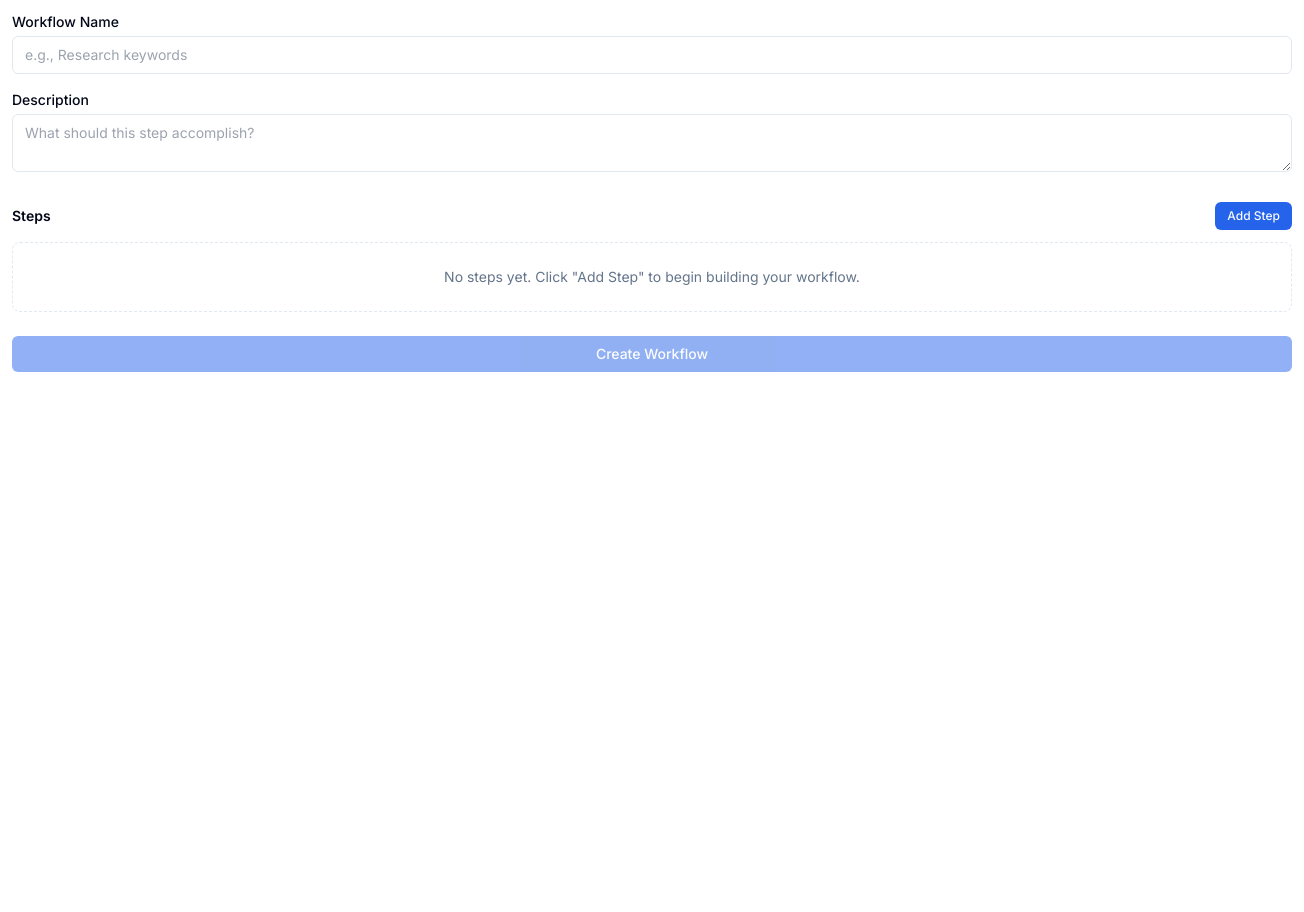
Test case: WorkflowBuilder › shows error on blur when step name is empty
Click the button "Add Step".
click(1254, 216)  # box [1215,202,1292,230]
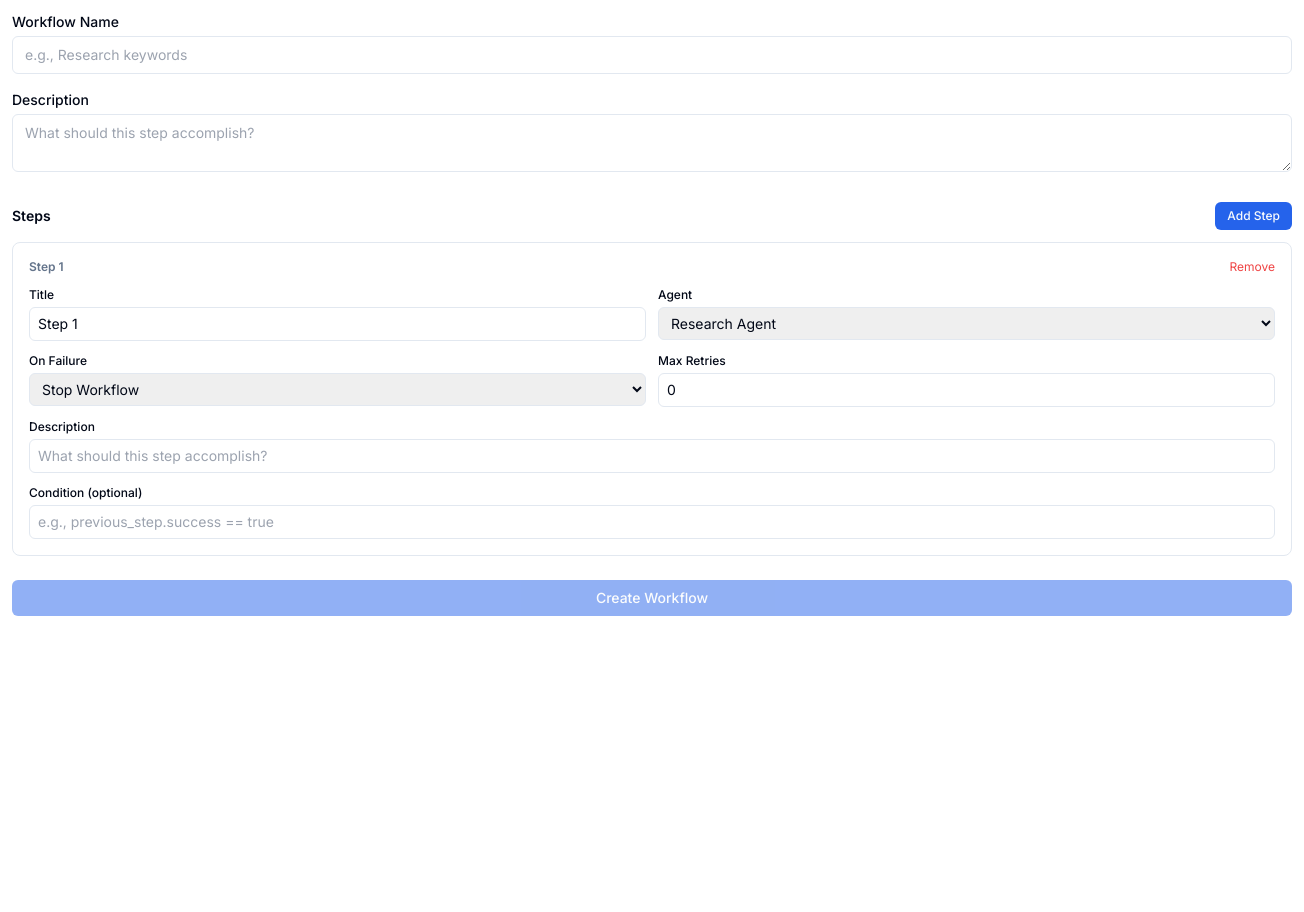
Clear the field named "Step 1 title" at [338, 324], box [29,307,646,341]
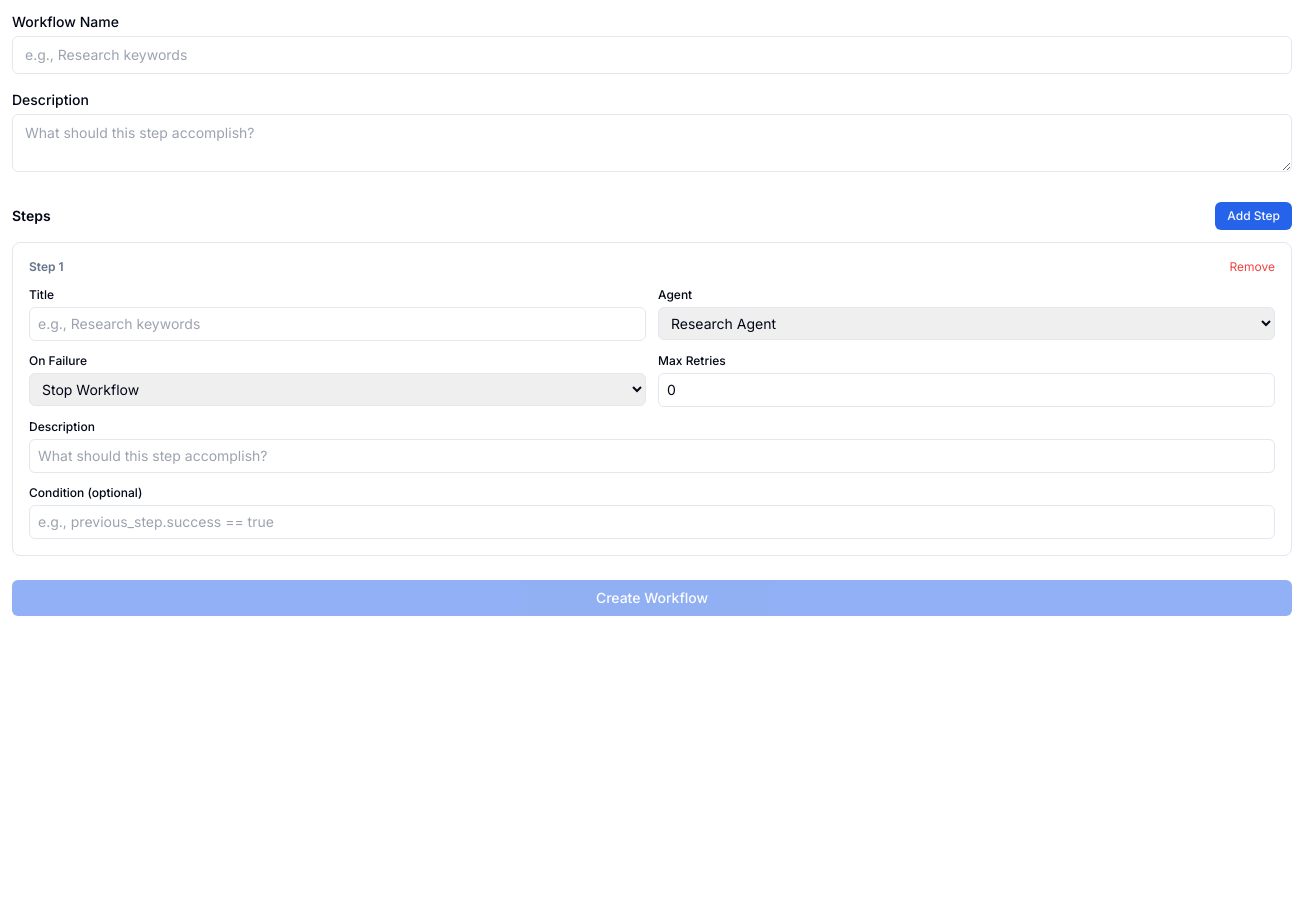
Leave the field named "Step 1 title", box [29,307,646,341]
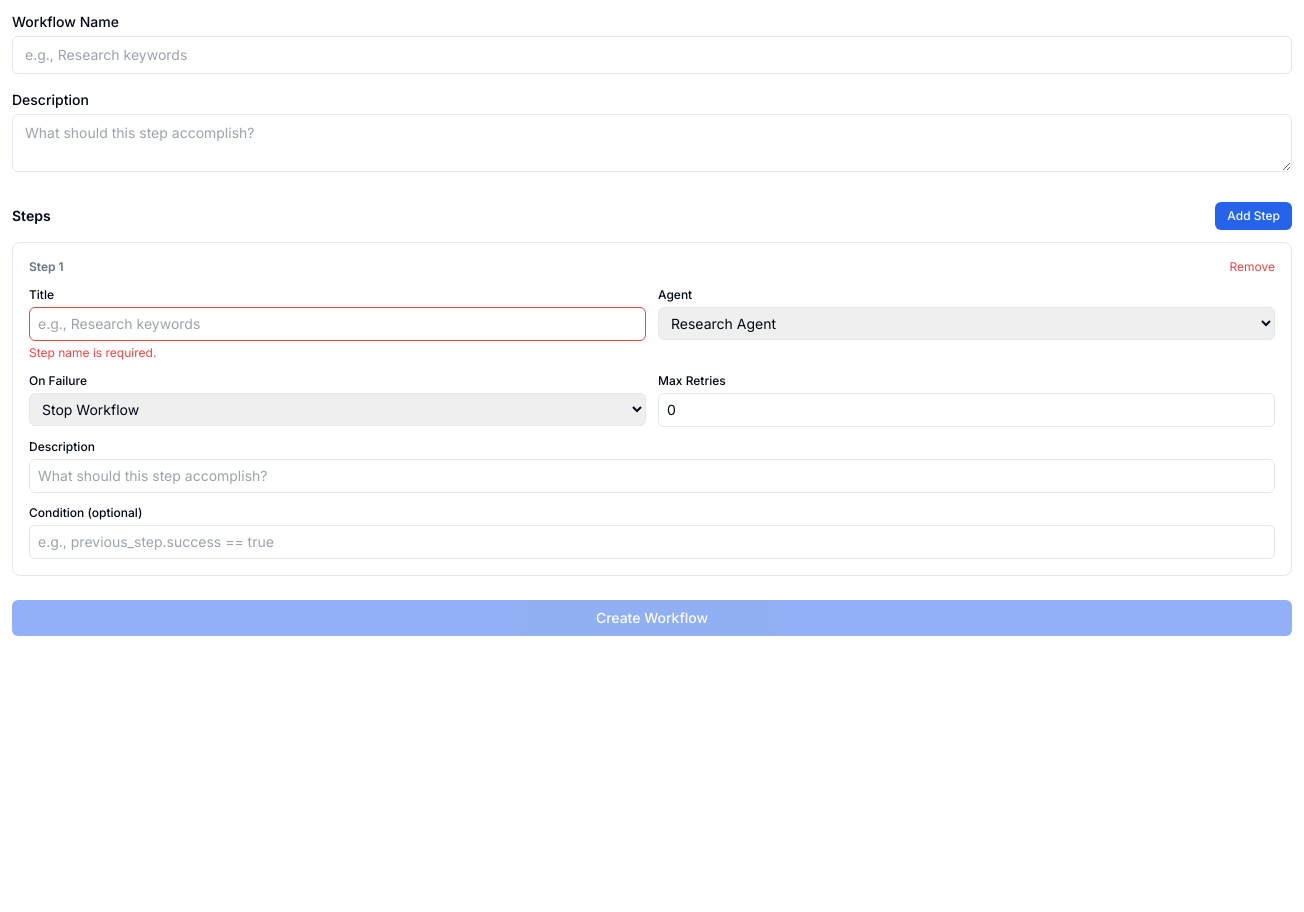
Check: the text "Step name is required." is shown, box [29,345,156,360]
